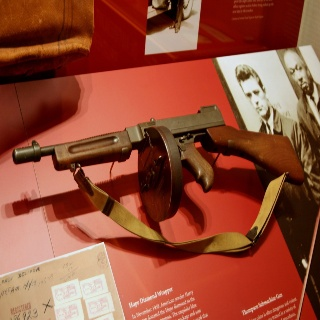rifle: (10, 104, 306, 192)
